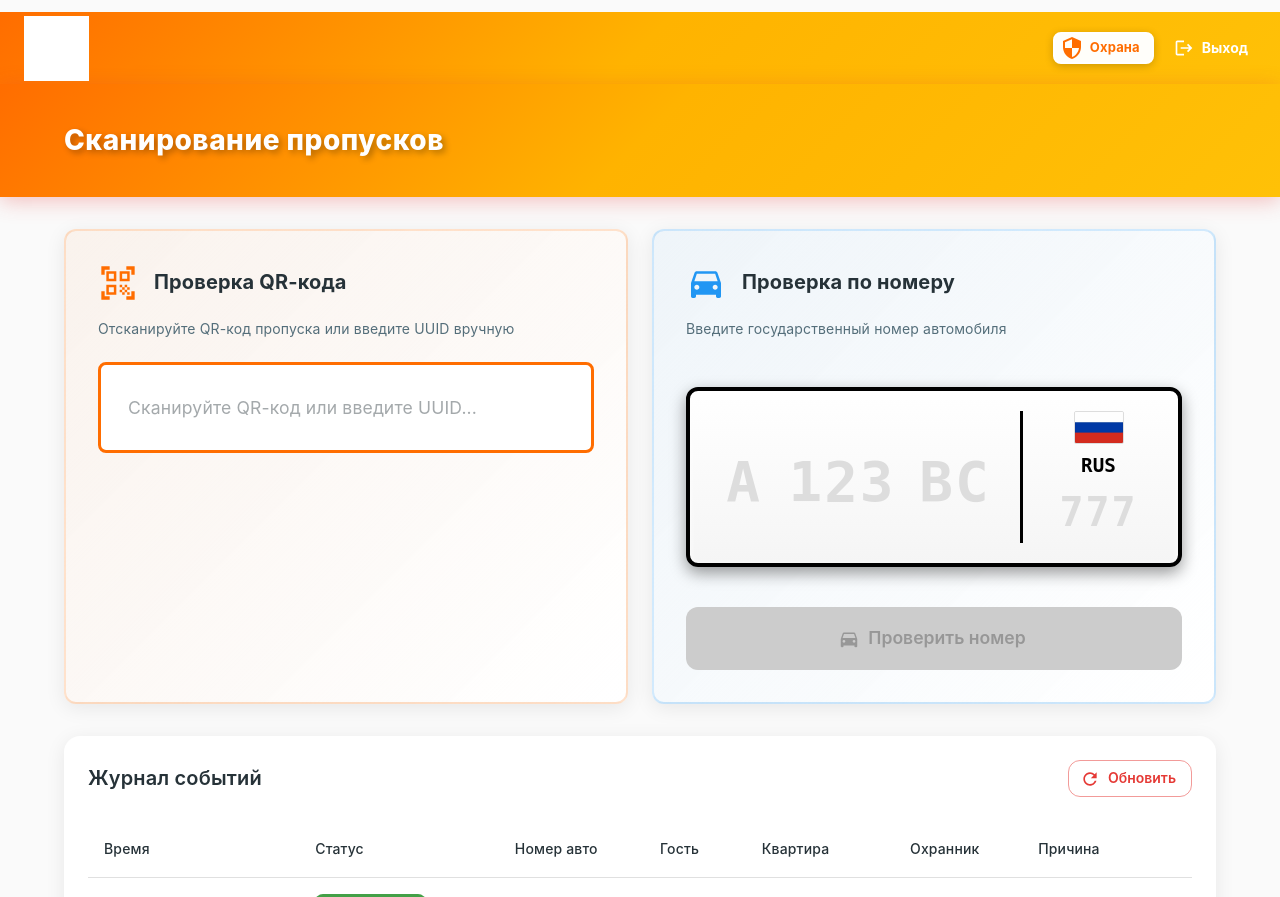
Test: SecurityPage › shows invalid pass result for expired UUID
Type "expired-uuid" into the field with placeholder "Сканируйте QR-код или введите UUID..." at (346, 408), box x1=114 y1=379 x2=578 y2=437
Then press Enter
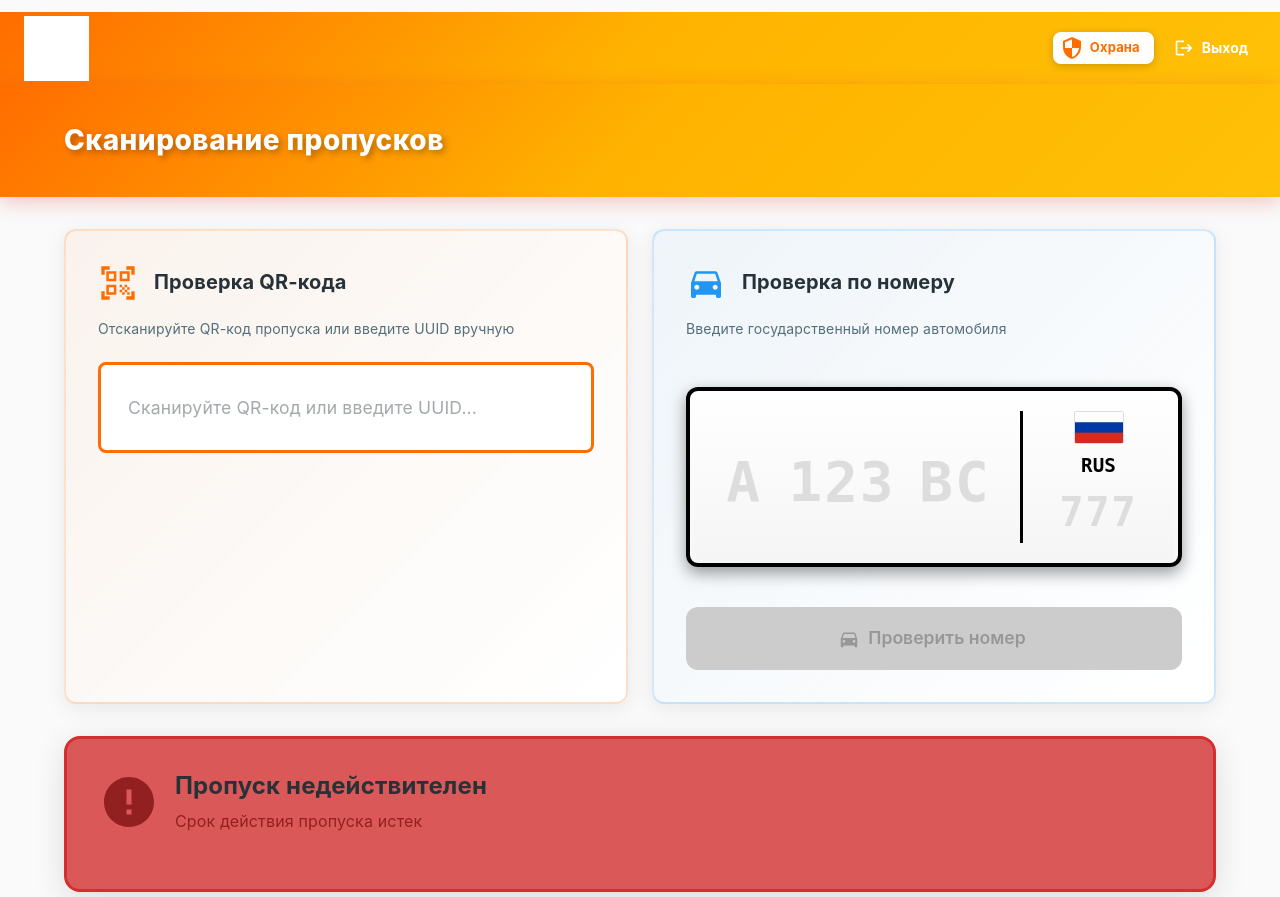
Check: the heading "Пропуск недействителен" is shown, box x1=175 y1=771 x2=487 y2=801
